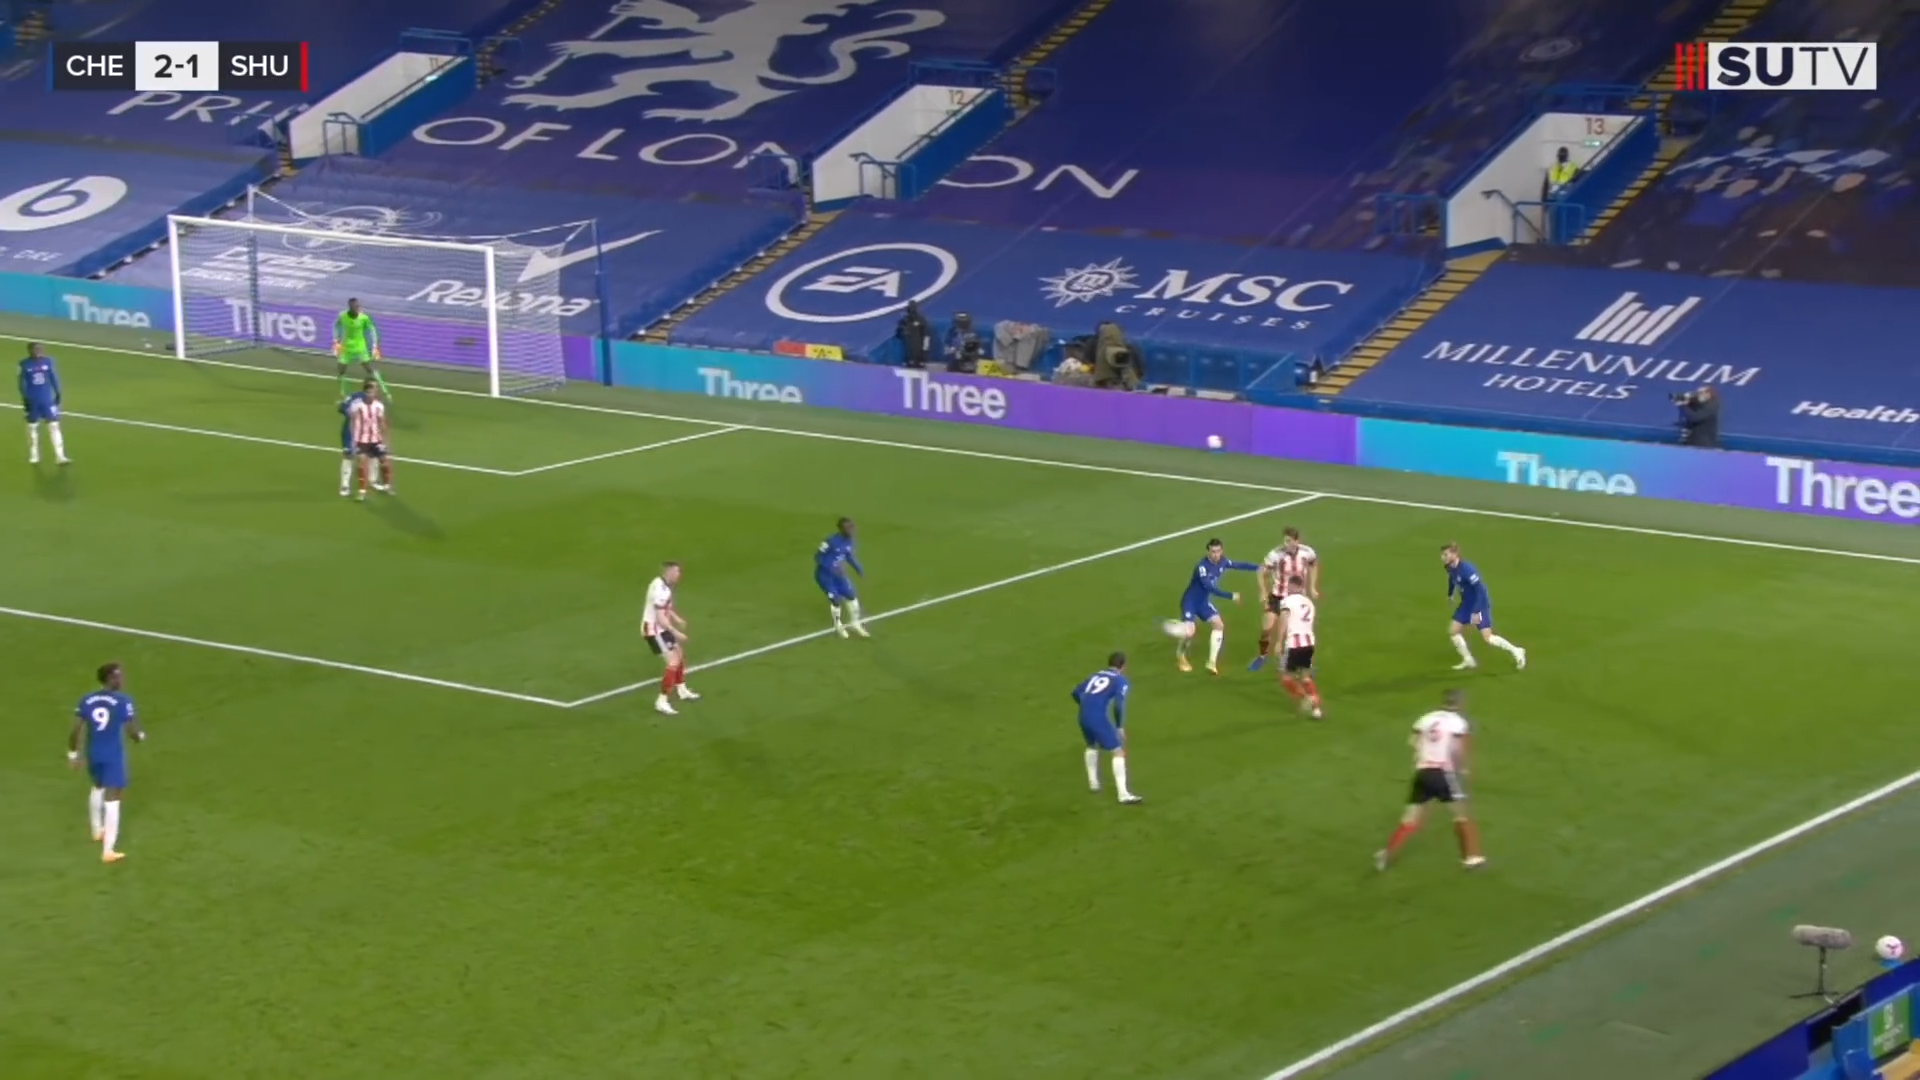Player: (51, 644, 150, 875), (1060, 633, 1160, 812), (1419, 542, 1536, 682), (634, 547, 714, 712), (811, 505, 874, 646), (326, 294, 394, 386)
